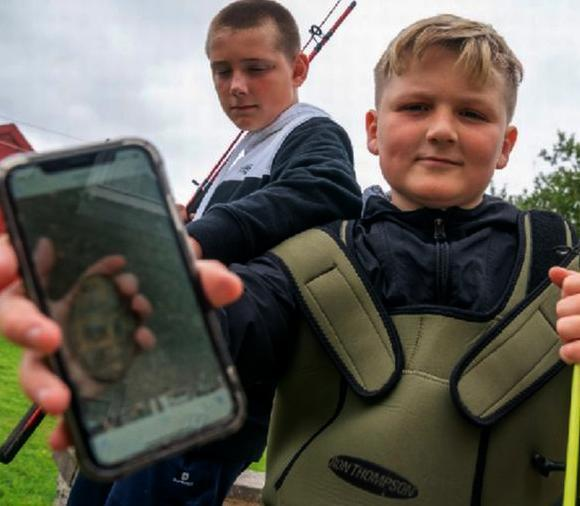Grenade: (67, 272, 140, 384)
